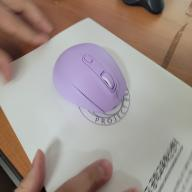mouse: (52, 42, 127, 116)
